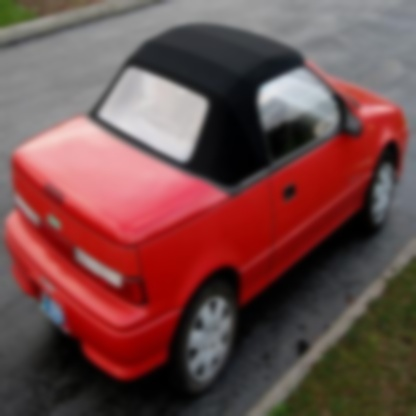Vehicle: (4, 23, 410, 388)
